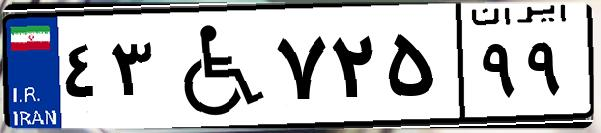2: (330, 28, 385, 110)
3: (110, 28, 158, 98)
4: (57, 26, 110, 100)
5: (385, 28, 445, 110)
7: (270, 28, 330, 110)
9: (475, 38, 525, 113), (525, 38, 570, 115)
ژ (معلولین و جانبازان): (158, 12, 270, 120)
